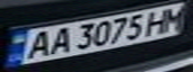0: (90, 18, 115, 47)
3: (72, 21, 96, 51)
5: (124, 11, 151, 39)
7: (109, 15, 133, 44)
A: (18, 29, 57, 61), (45, 25, 75, 55)
H: (142, 7, 175, 35)
M: (157, 3, 190, 32)
